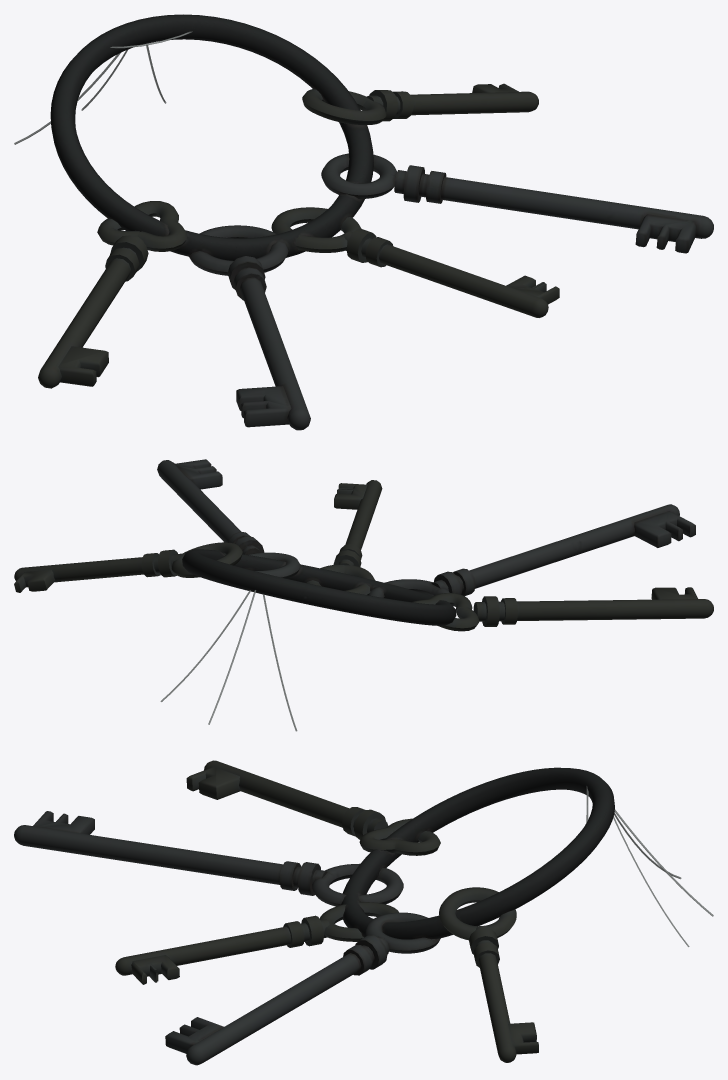
File: old-key-ring.glb
3 renders of one model, top to bottom at view 1: azimuth 30°, elevation 25°; view 2: azimuth 150°, elevation 25°; view 3: azimuth 270°, elevation 25°, orthographic. The views are drawn at different scales.
Parts seen in each view (by area): view 1: old-key-ring_body, old-key-ring_web; view 2: old-key-ring_body, old-key-ring_web; view 3: old-key-ring_body, old-key-ring_web.
Boxes of the visible parts, bbox=[...] form: old-key-ring_body: bbox=[38, 14, 713, 430]; old-key-ring_web: bbox=[14, 31, 192, 144]; old-key-ring_body: bbox=[14, 459, 713, 631]; old-key-ring_web: bbox=[160, 590, 297, 731]; old-key-ring_body: bbox=[14, 760, 614, 1065]; old-key-ring_web: bbox=[586, 786, 713, 946].
Size of the model in its own units: 0.1707 by 0.0339 by 0.1725.
Materials: 2 (1 with a texture image).
